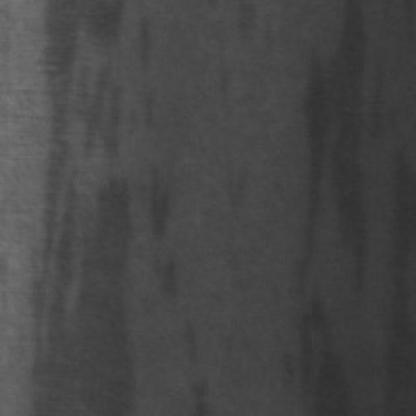inclusion: (33, 0, 131, 412), (295, 2, 375, 408), (146, 158, 189, 304), (216, 154, 248, 216)
